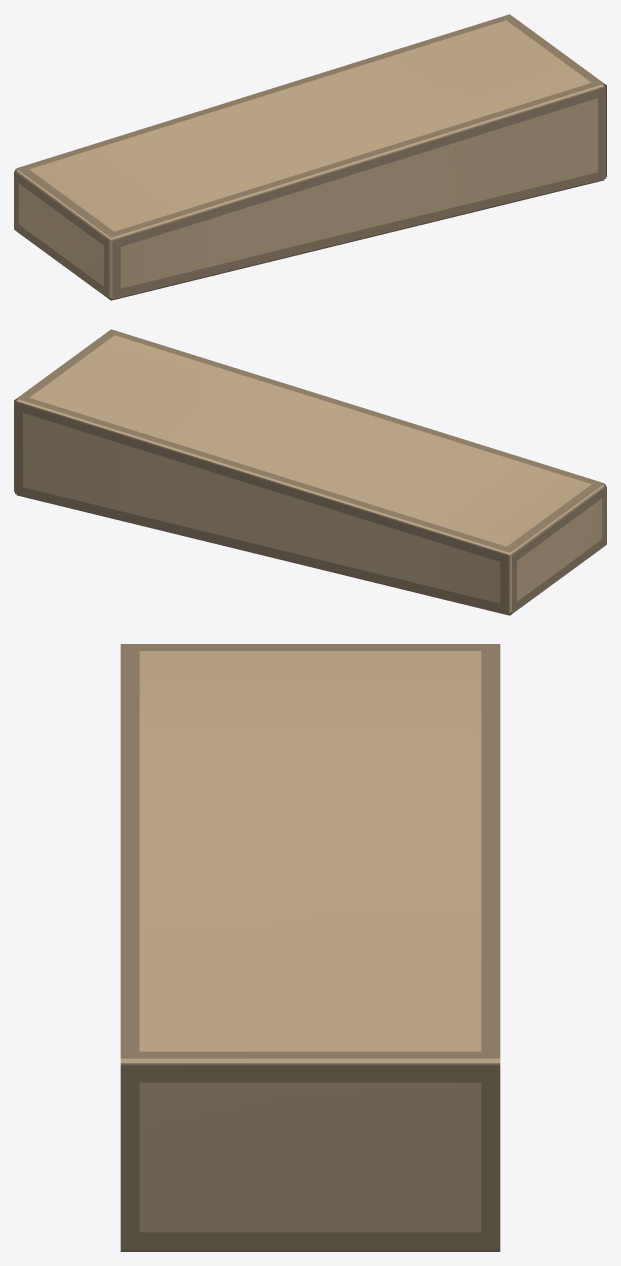
The model's file is key.glb.
3 views of the same model, one above another, from view 1: azimuth 30°, elevation 25°; view 2: azimuth 150°, elevation 25°; view 3: azimuth 270°, elevation 25° (orthographic). The views are drawn at different scales.
Visible parts, largest first — view 1: key; view 2: key; view 3: key.
Part boxes in pixels (<box>): key: <box>14,14,606,300</box>; key: <box>14,329,606,615</box>; key: <box>120,644,500,1251</box>.
Bounding box in the file's own units: 0.0908 × 0.0168 × 0.0308.
